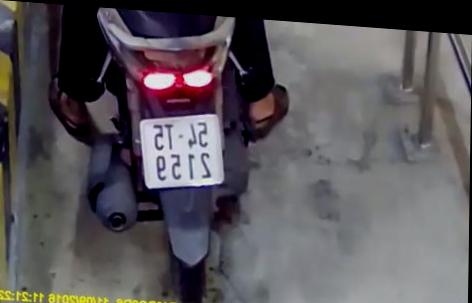License_Plate: (132, 103, 237, 199)
